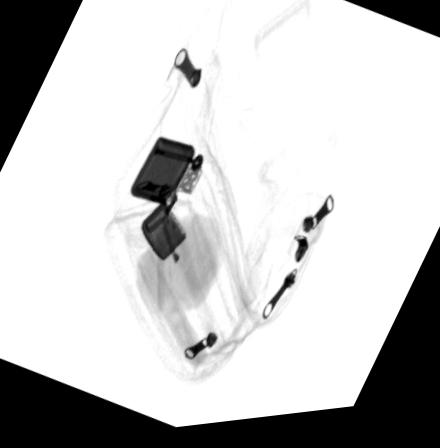Lighter: (130, 139, 204, 264)
